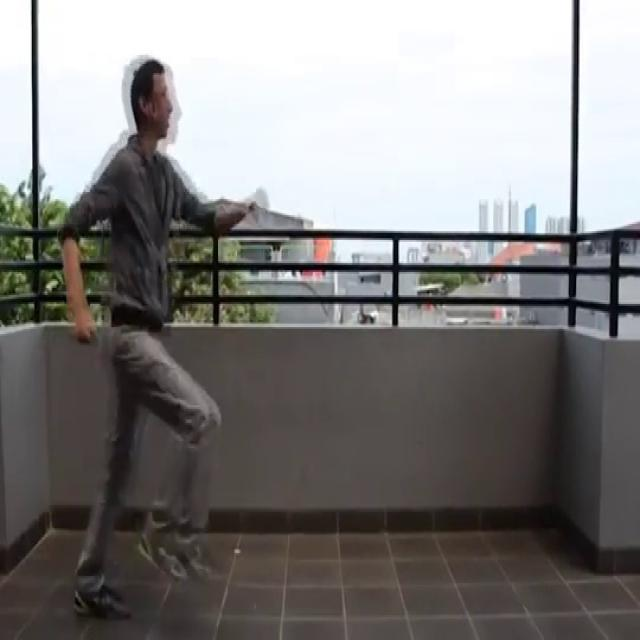normal: (54, 50, 234, 613)
